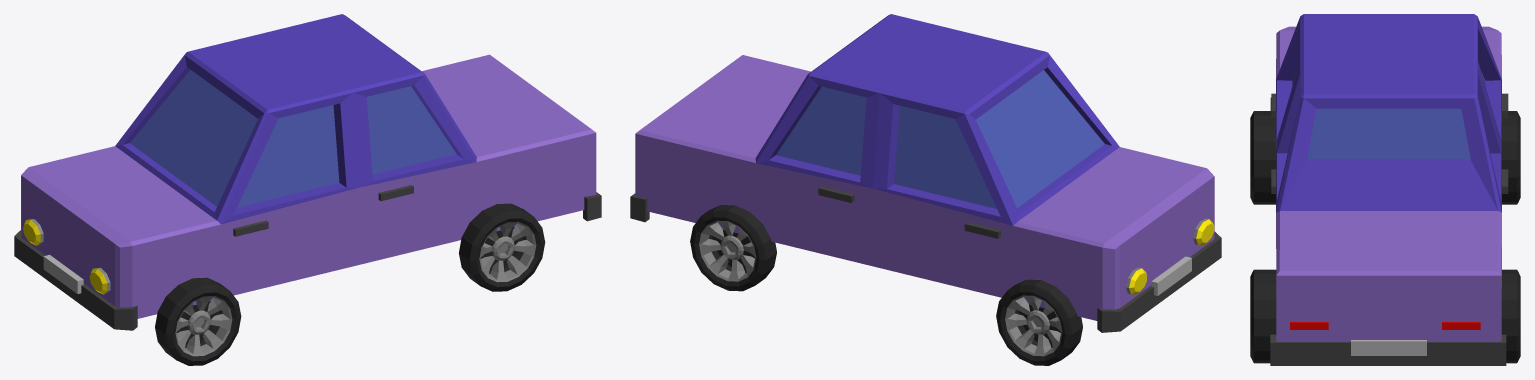
File: Car-3.fbx
The picture shows the model from 3 angles, left to right: view 1: azimuth 30°, elevation 25°; view 2: azimuth 150°, elevation 25°; view 3: azimuth 270°, elevation 25°; orthographic projection. The views are drawn at different scales.
Parts seen in each view (by area): view 1: Car-3; view 2: Car-3; view 3: Car-3.
Part boxes in pixels (x1,y1,x2,y2): Car-3: [14, 14, 601, 365]; Car-3: [630, 14, 1221, 365]; Car-3: [1250, 14, 1520, 365].
Bounding box in the file's own units: 11.86 × 4.99 × 5.26.
